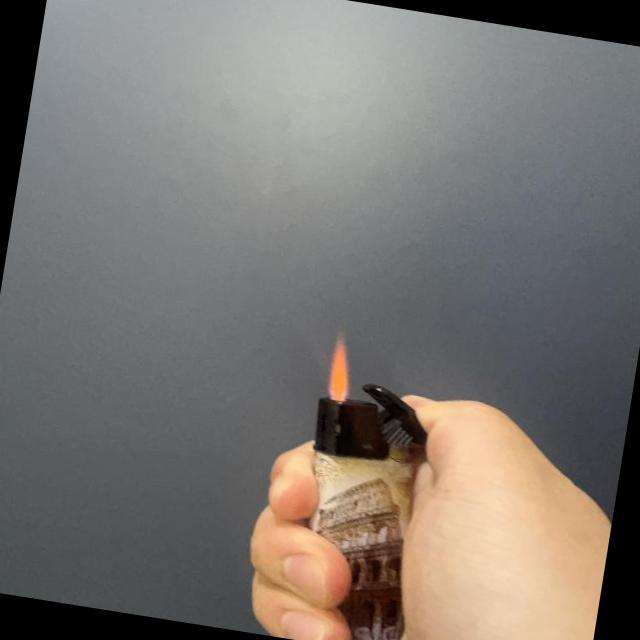Fire: (321, 333, 362, 404)
